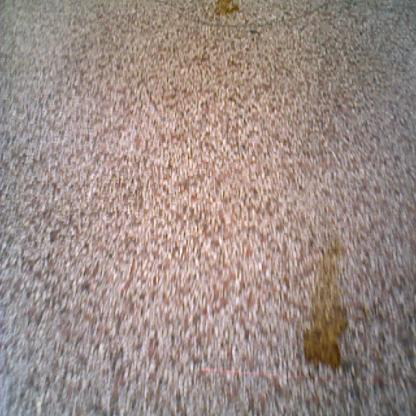liquid: (301, 242, 349, 374), (214, 1, 239, 17)
